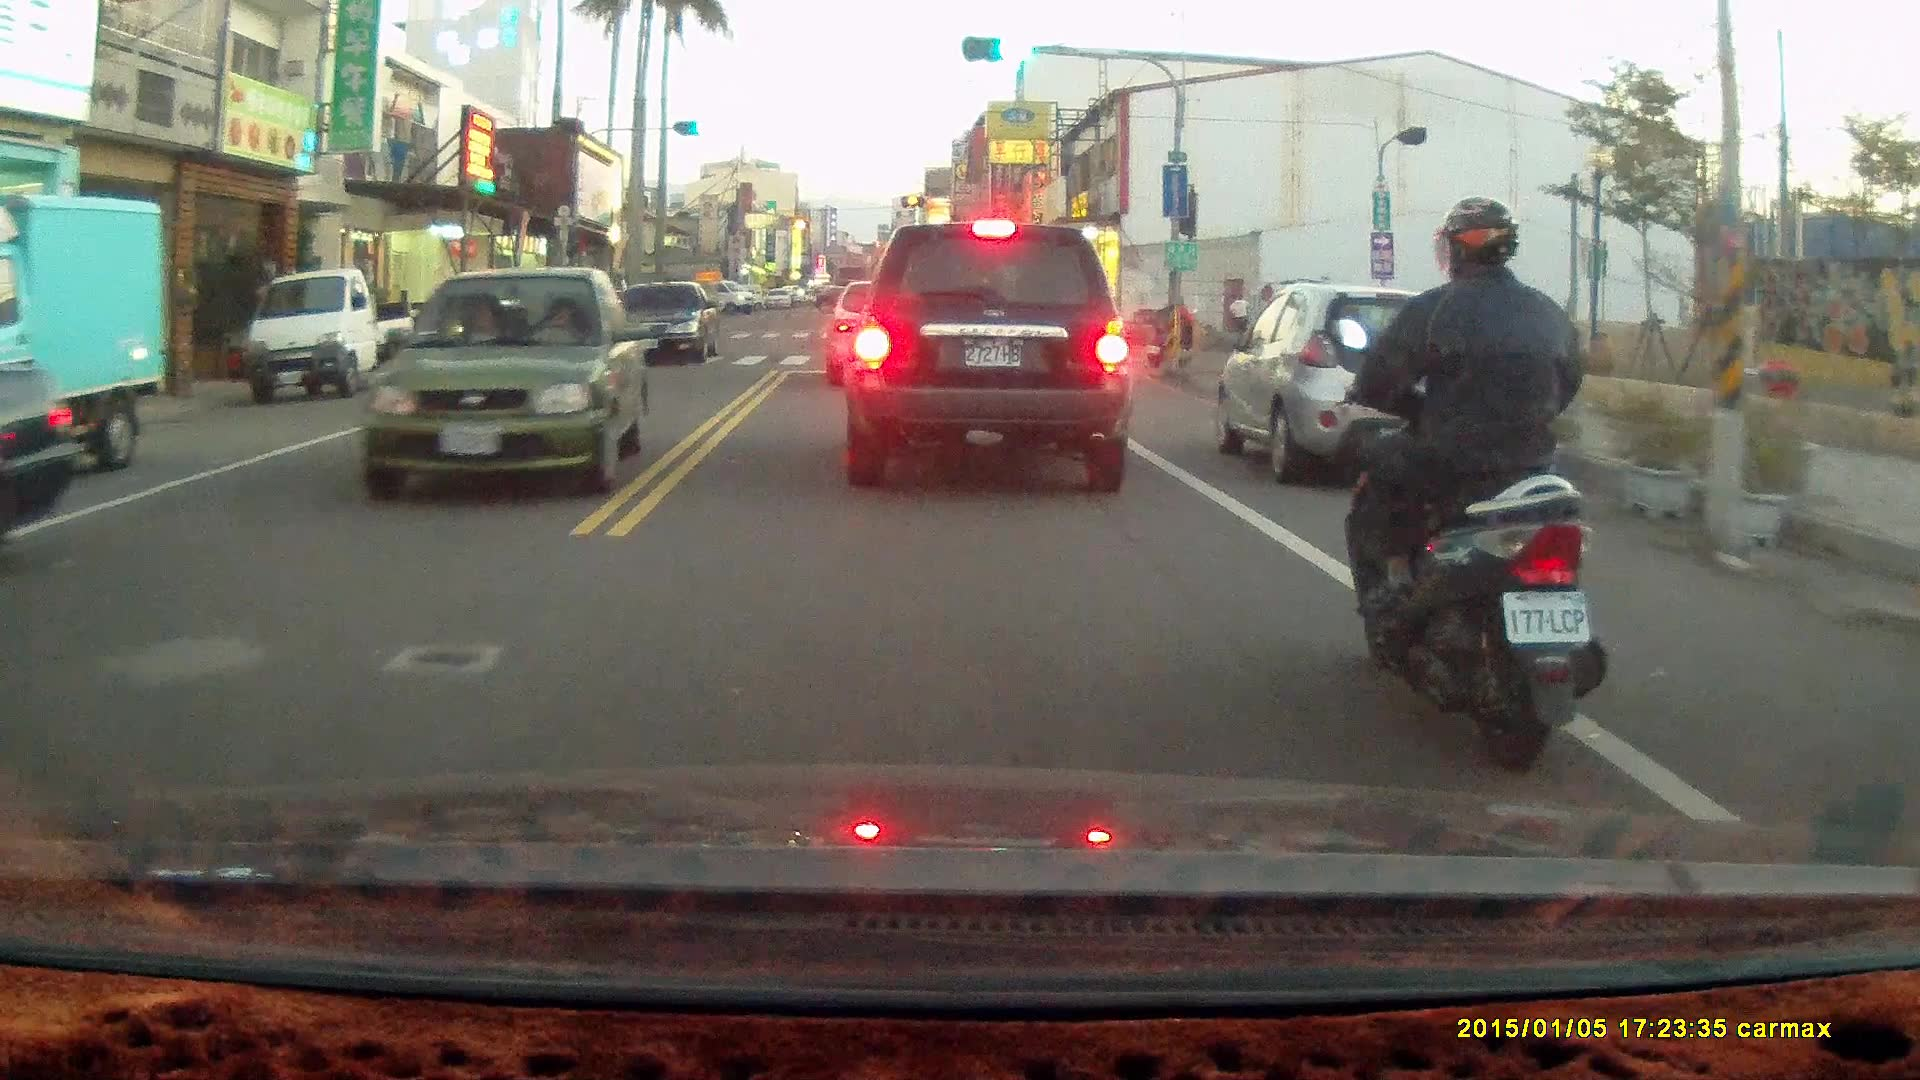pedestrian: (1225, 289, 1252, 359)
rider: (1334, 197, 1615, 779), (1146, 292, 1195, 369)
vehicle: (843, 223, 1137, 496), (353, 266, 644, 500), (1215, 283, 1510, 498), (1, 193, 170, 482), (243, 268, 421, 400), (1, 373, 94, 542), (606, 282, 724, 371)
